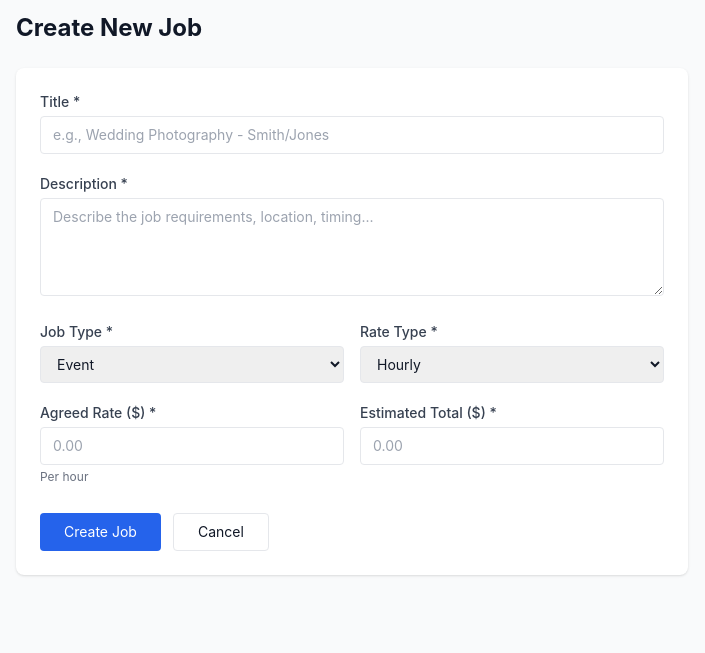
Scenario: JobCreatePage › shows server validation error
Step 1. Type "Test Job" into the field with placeholder "e.g., Wedding Photography - Smith/Jones" → [352, 135], box [40,116,664,154]
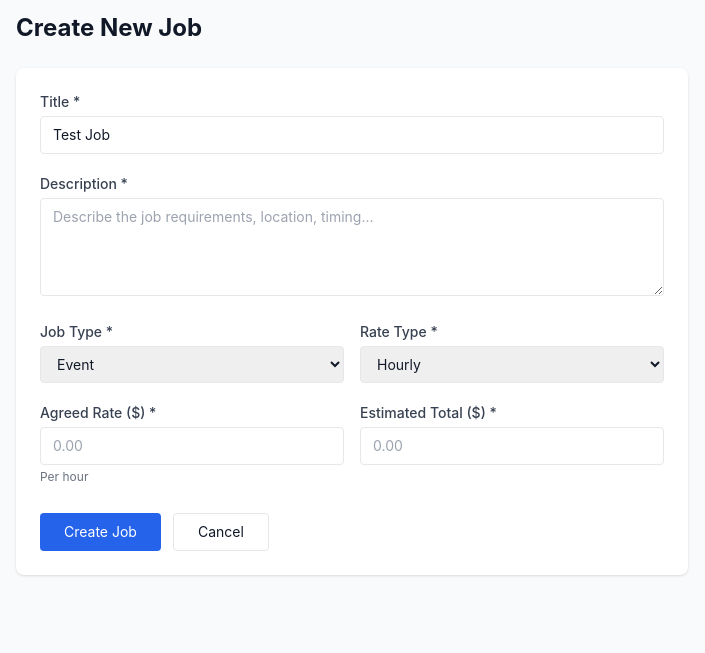
Step 2. Type "D" into the text box with placeholder "Describe the job requirements, location, timing..." → [352, 247], box [40,198,664,296]
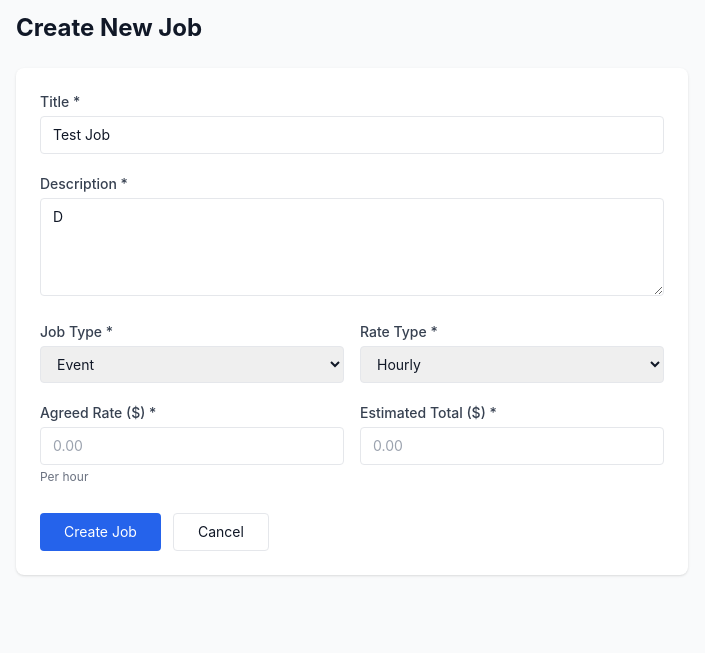
Step 3. Type "10" into the number field with placeholder "0.00" below "Agreed Rate ($) *" → [192, 446], box [40,427,344,465]
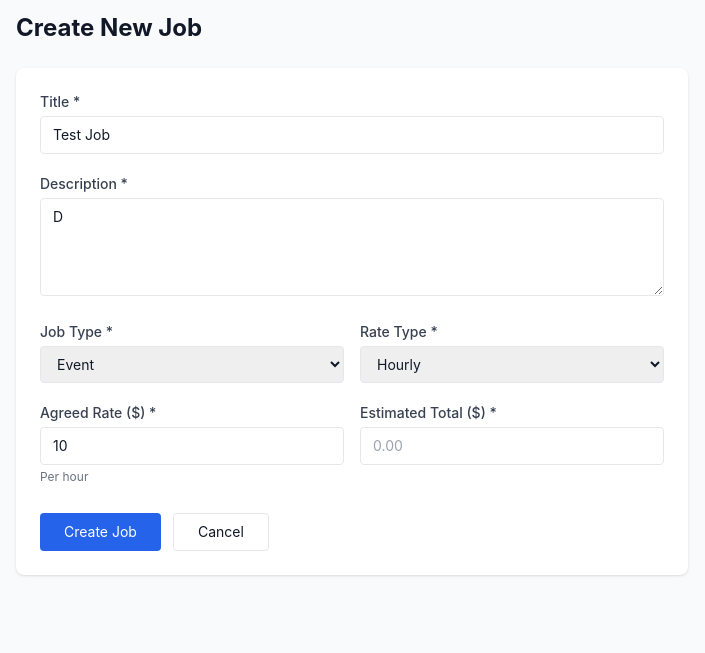
Step 4. Type "10" into the number field with placeholder "0.00" → [512, 446], box [360,427,664,465]
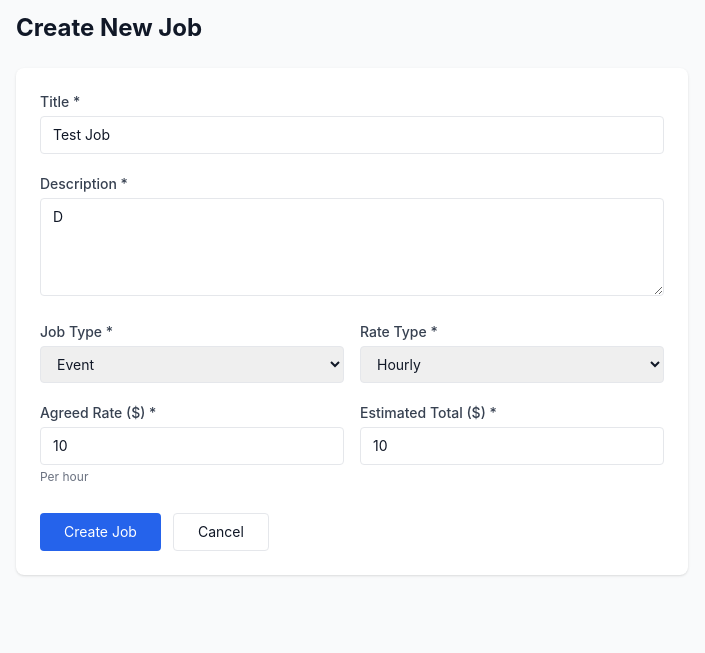
Step 5. Click the button "Create Job" → [100, 532], box [40,513,161,551]
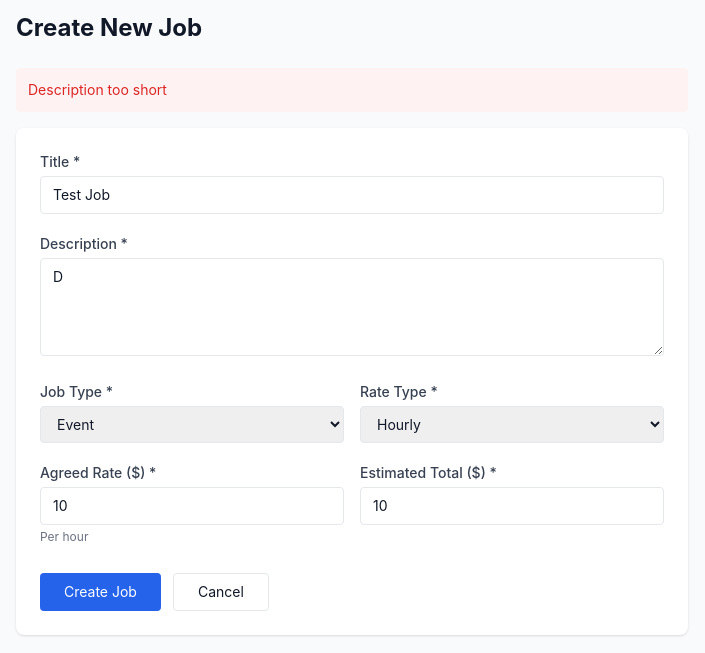
Expected: the text "Description too short" is shown, [16,68,688,112]
